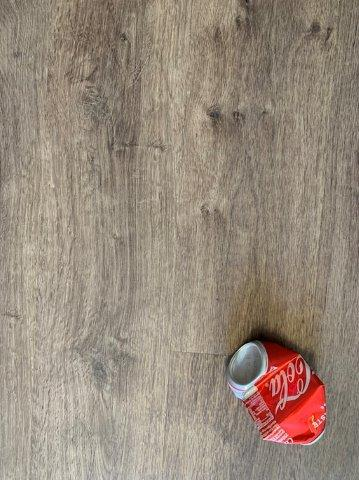kaleng: (226, 341, 326, 443)
